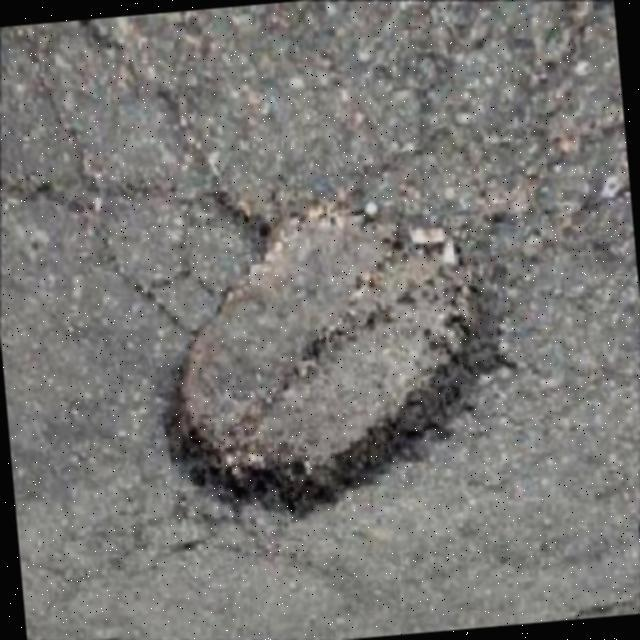Pothole: (161, 202, 490, 514)
